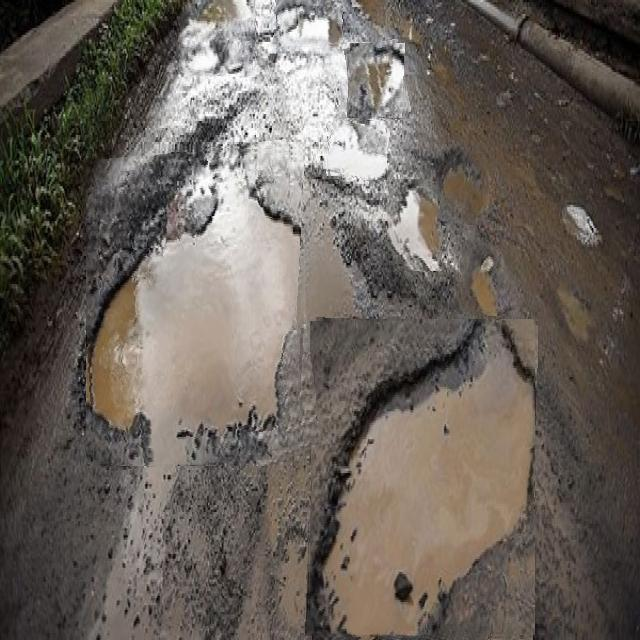Pothole: (307, 319, 535, 640), (86, 144, 313, 466), (179, 0, 255, 76), (387, 180, 442, 271), (347, 41, 408, 120), (441, 139, 492, 225), (459, 243, 516, 316), (324, 121, 387, 180), (274, 0, 343, 48), (550, 277, 596, 346)
